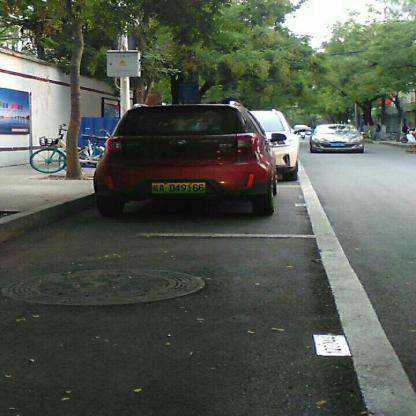lp: (150, 181, 206, 193)
